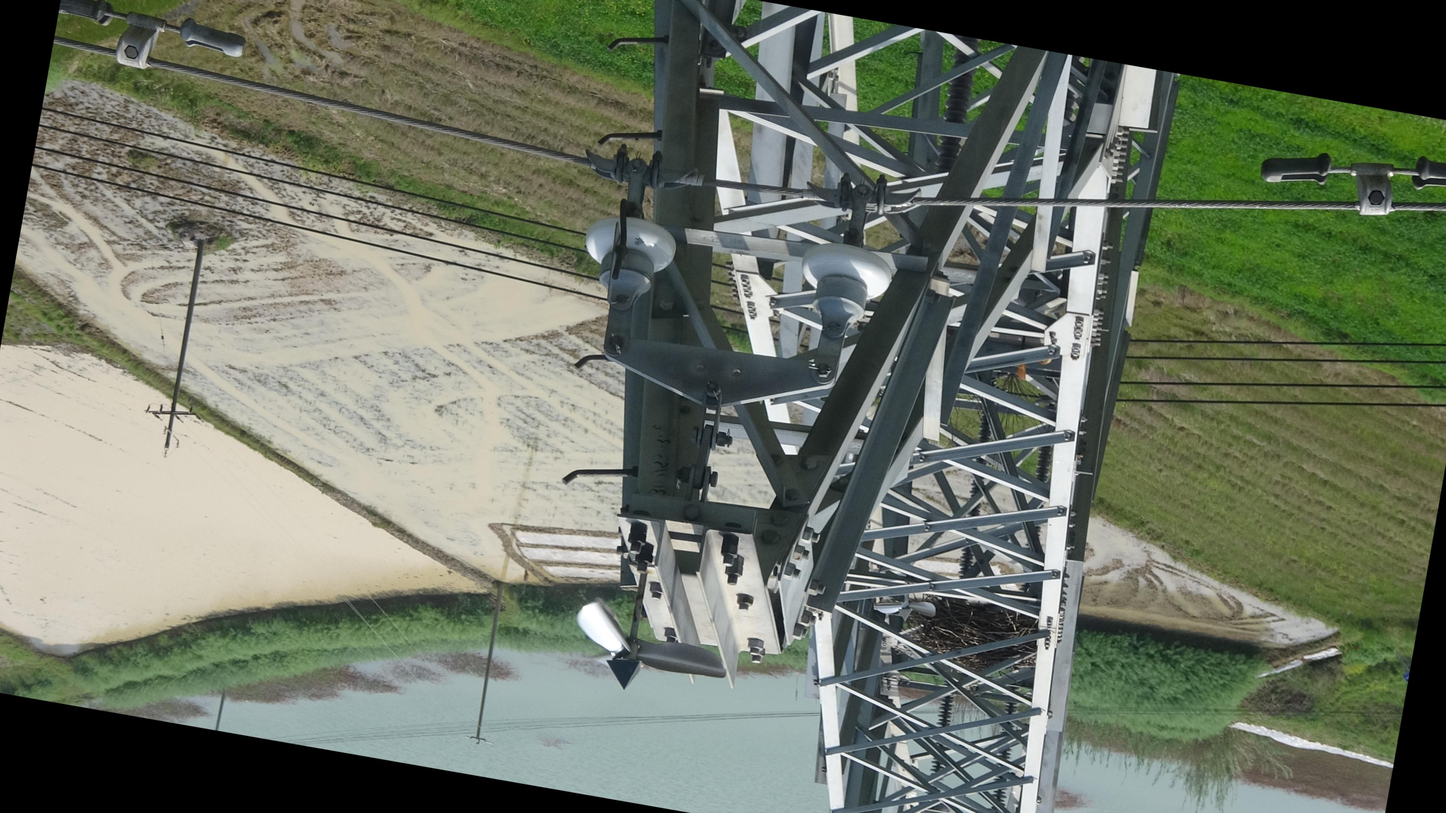damper: (1248, 120, 1446, 244), (50, 0, 257, 95)
